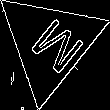M_SW: (17, 9, 82, 78)
